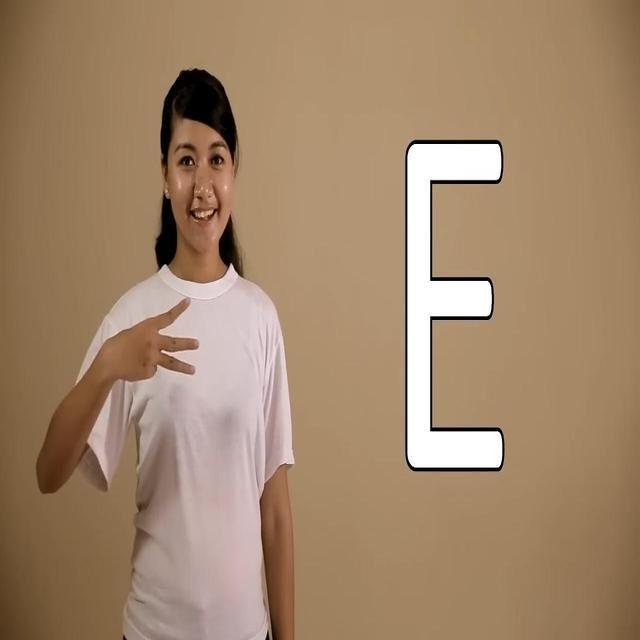E: (102, 293, 212, 384)
